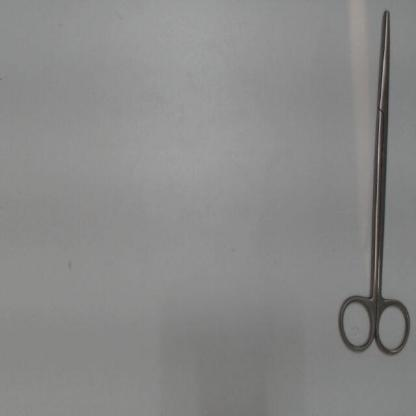9 Metzenbaum Scissors: (334, 6, 414, 362)
